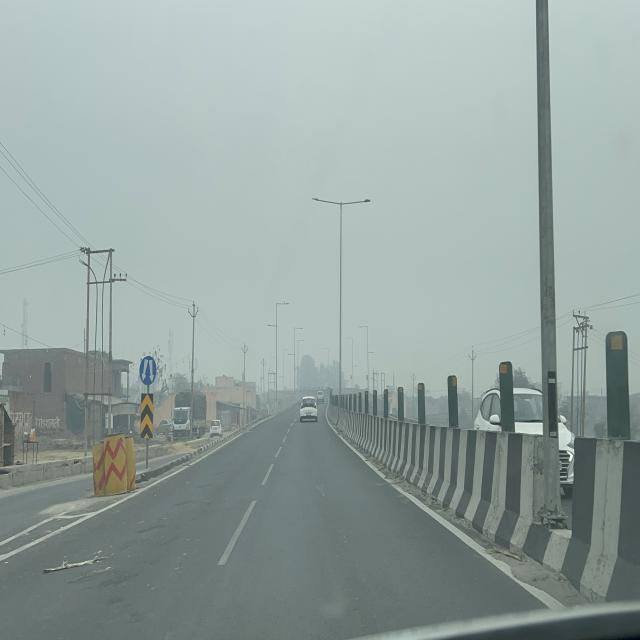KEEP_EITHER_SIDE: (139, 355, 157, 386)
